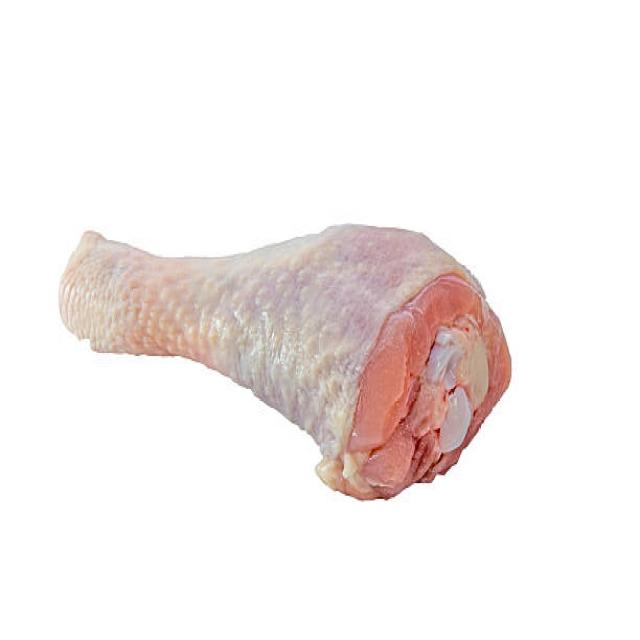Chicken: (53, 209, 520, 509)
